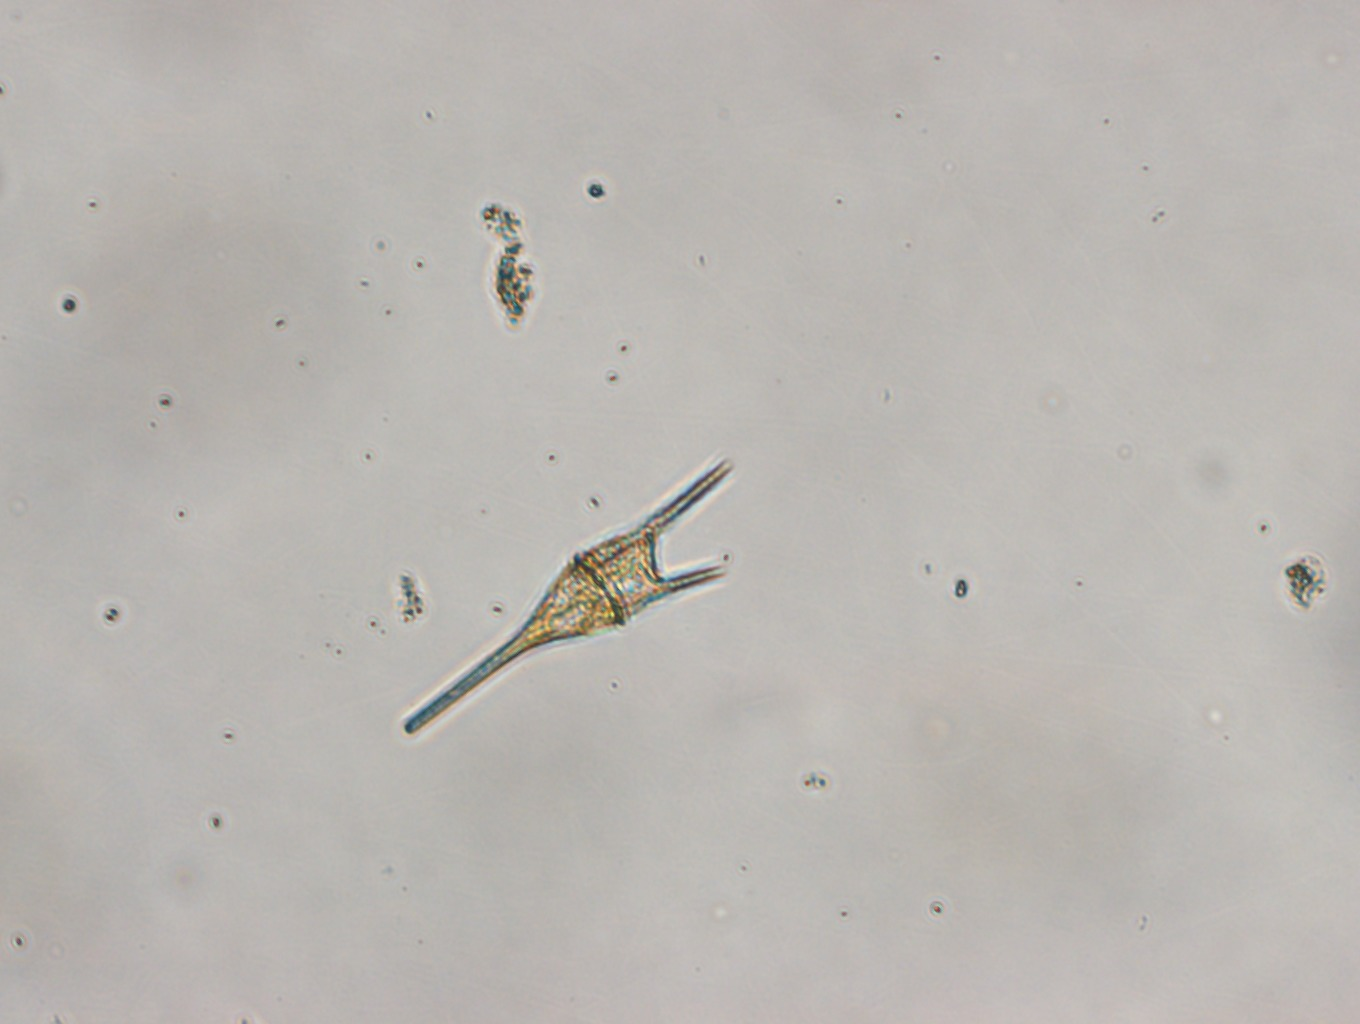ceratium tripos: (402, 457, 738, 735)
